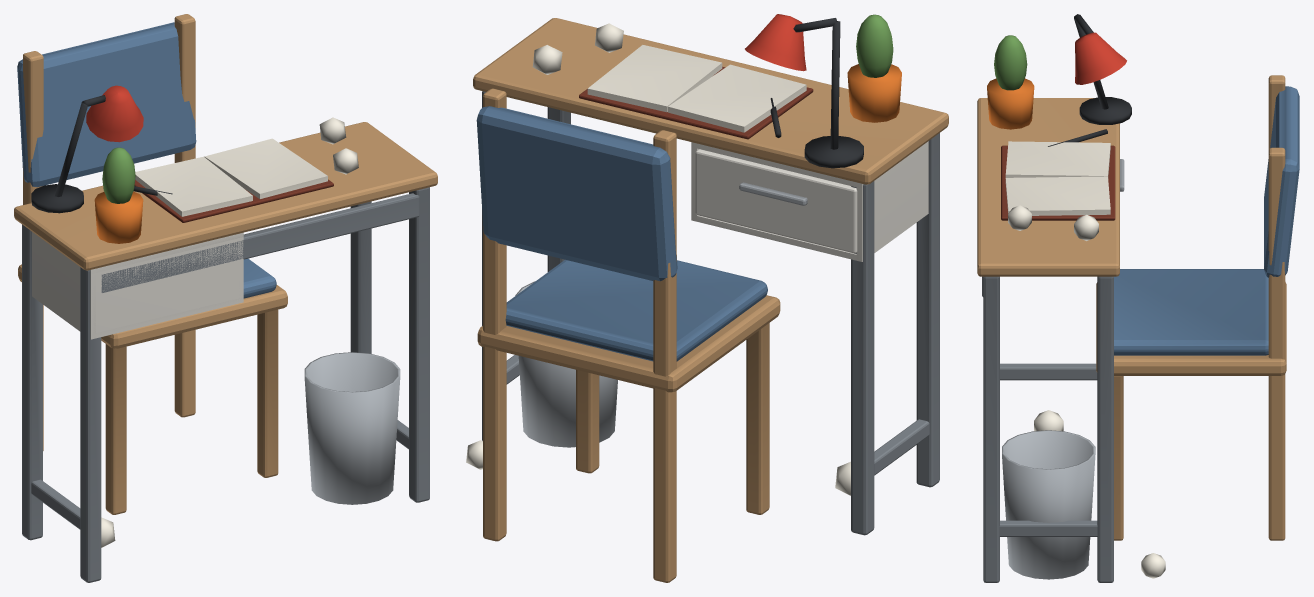
The model's file is grudgeJournal.glb.
The picture shows the model from 3 angles, left to right: view 1: azimuth 30°, elevation 25°; view 2: azimuth 150°, elevation 25°; view 3: azimuth 270°, elevation 25°; orthographic projection. The views are drawn at different scales.
Visible parts, largest first — view 1: body; view 2: body, drawer; view 3: body.
Part boxes in pixels (bbox=[...]): body: bbox=[14, 14, 437, 582]; body: bbox=[466, 14, 948, 582]; drawer: bbox=[695, 149, 857, 253]; body: bbox=[977, 14, 1299, 582].
Size of the model in its own units: 0.84 by 1 by 0.6774.
